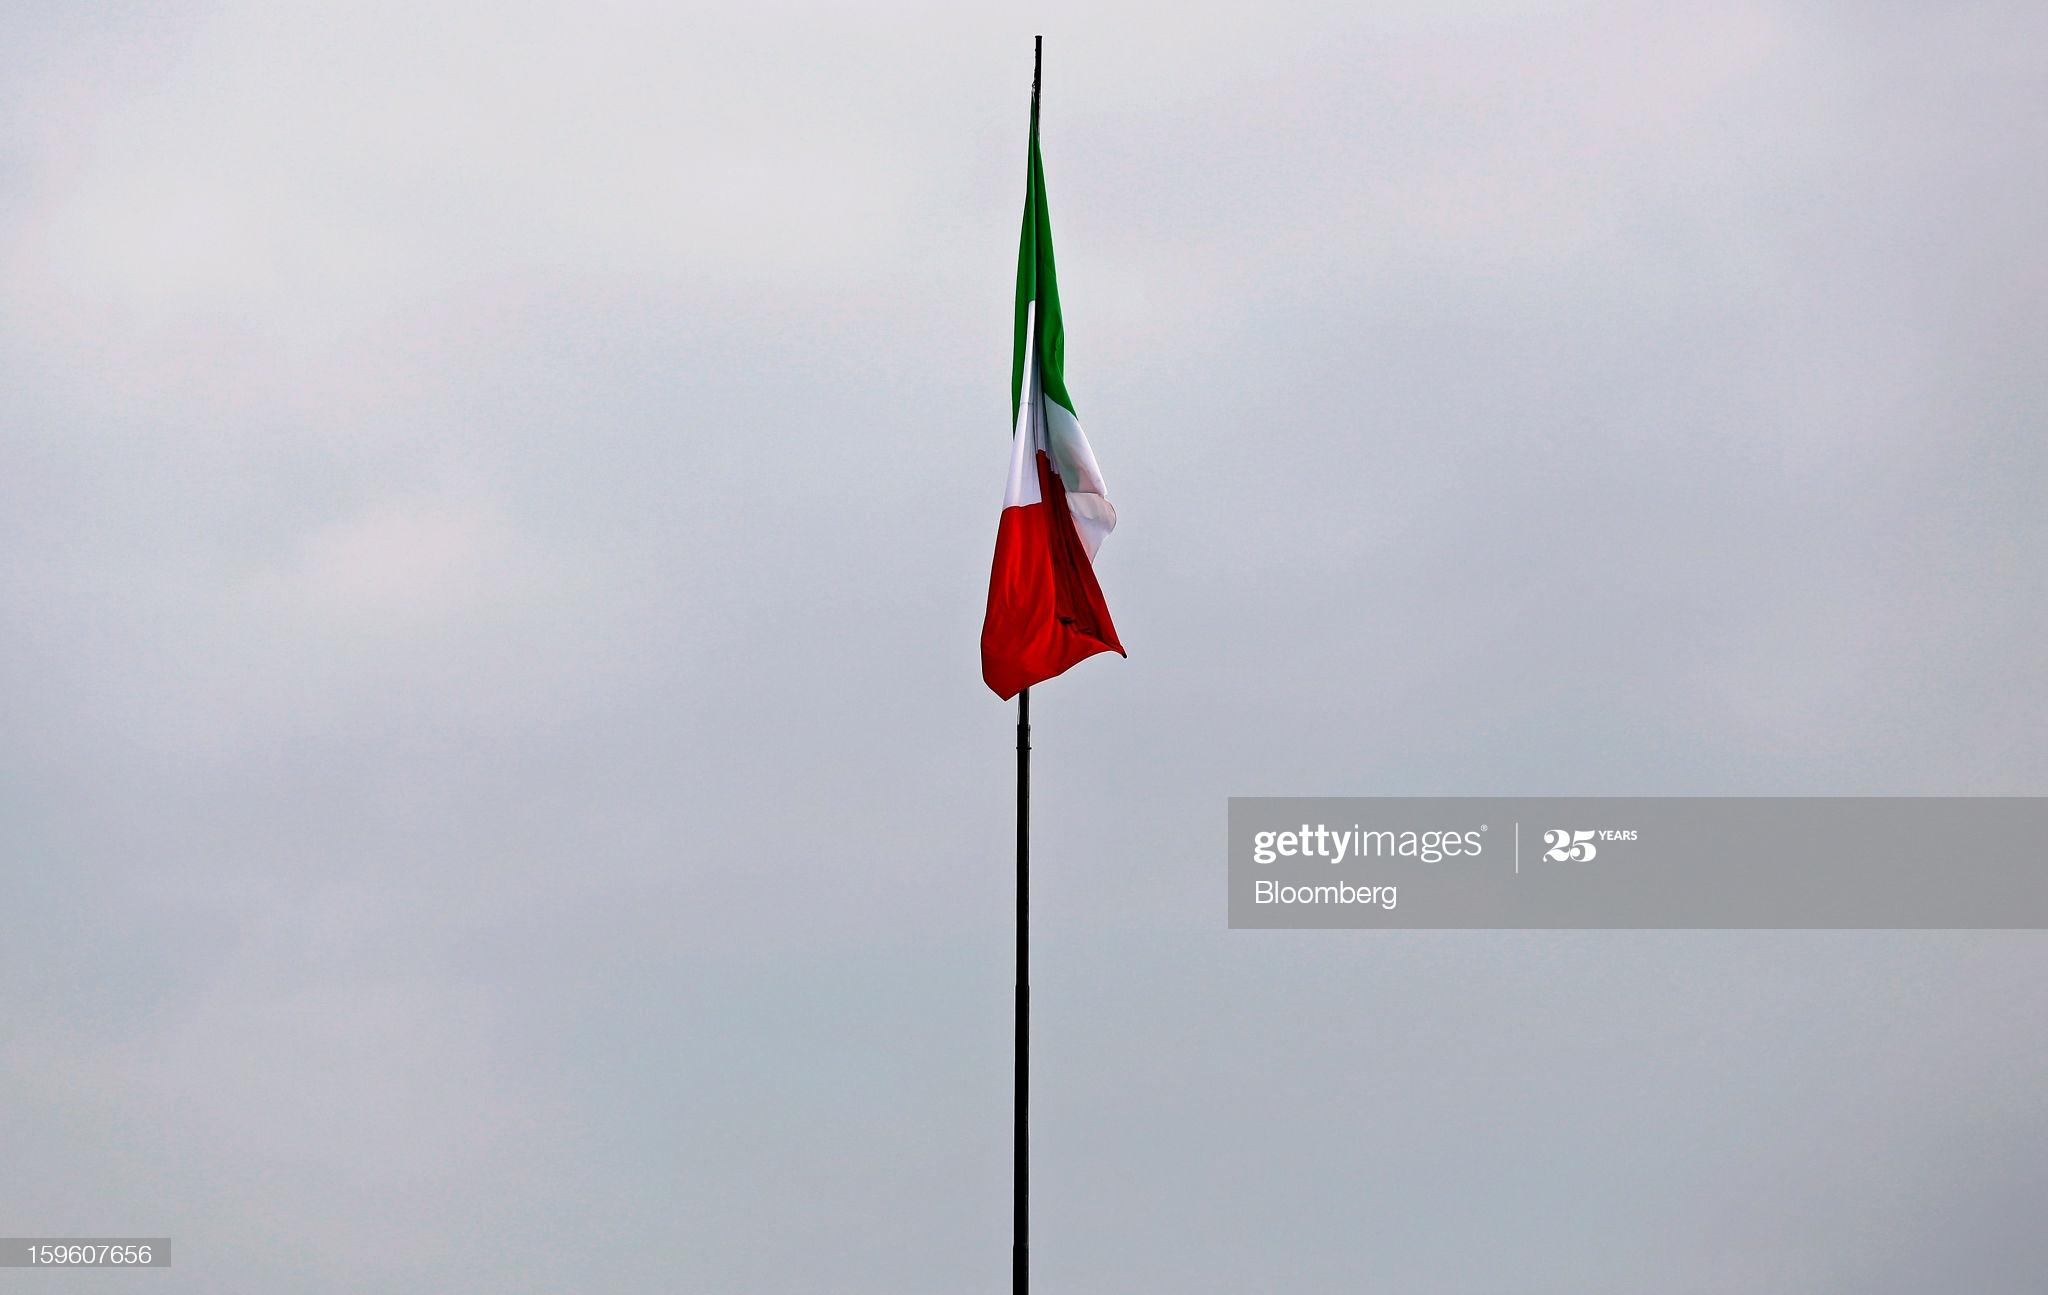Flag: (971, 28, 1129, 706)
